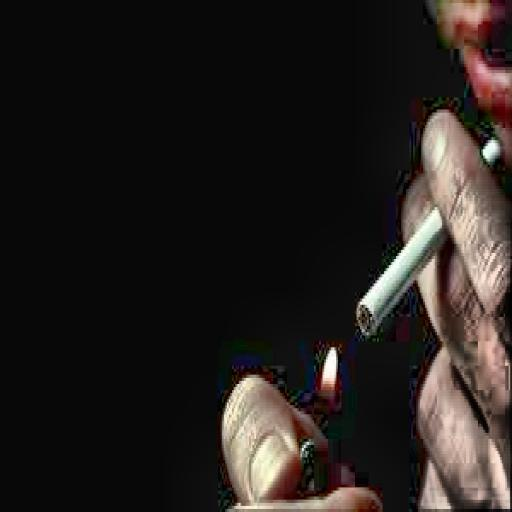fire: (310, 326, 346, 405)
